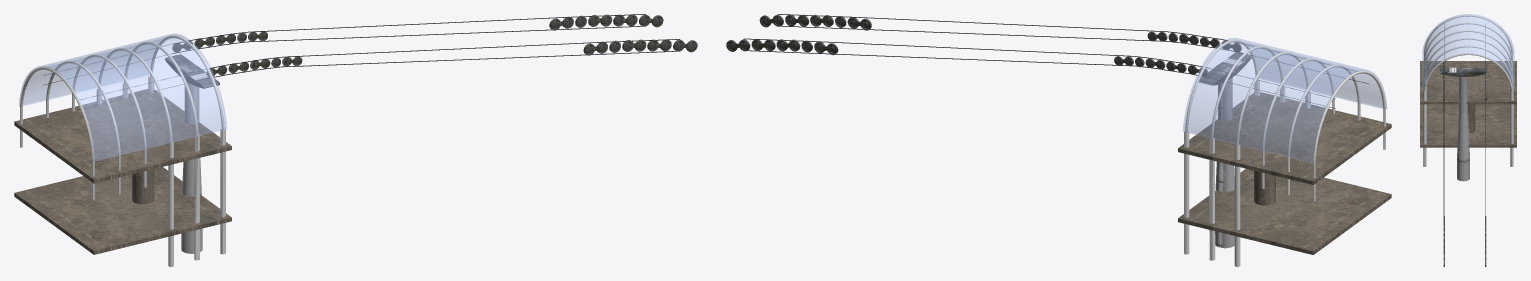
Rendered from trilho.glb.
3 renders of one model, left to right at view 1: azimuth 30°, elevation 25°; view 2: azimuth 150°, elevation 25°; view 3: azimuth 270°, elevation 25°, orthographic. The views are drawn at different scales.
Parts seen in each view (by area): view 1: Cylinder.021, Plane.072, Plane.019, Cylinder.023, Circle.002, Circle.010, Circle.004, Vert.004, Vert.009, Cylinder.026, Cylinder.024, Cylinder.025 (+1 smaller); view 2: Cylinder.021, Plane.072, Plane.019, Cylinder.023, Circle.002, Circle.004, Circle.010, Vert.009, Vert.004, Cylinder.026, Cylinder.025, Cylinder.024 (+1 smaller); view 3: Cylinder.021, Plane.019, Plane.072, Cylinder.023, Circle.002, Cylinder.024, Vert.004, Cylinder.027, Vert.009, Circle.004, Circle.010.
Boxes of the visible parts, x1,y1,x2,y2 form: Cylinder.021: (19, 34, 226, 161); Plane.072: (14, 89, 231, 183); Plane.019: (14, 167, 231, 254); Cylinder.023: (20, 35, 224, 200); Circle.002: (165, 54, 219, 253); Circle.010: (206, 39, 697, 77); Circle.004: (172, 14, 663, 52); Vert.004: (77, 39, 679, 110); Vert.009: (43, 14, 645, 85); Cylinder.026: (96, 89, 173, 266); Cylinder.024: (148, 76, 225, 254); Cylinder.025: (122, 83, 199, 260); Cylinder.021: (1183, 38, 1386, 162); Plane.072: (1178, 92, 1391, 184); Plane.019: (1178, 168, 1391, 254); Cylinder.023: (1185, 39, 1385, 201); Circle.002: (1199, 52, 1251, 248); Circle.004: (726, 39, 1208, 76); Circle.010: (759, 14, 1241, 52); Vert.009: (744, 38, 1335, 108); Vert.004: (777, 14, 1369, 84); Cylinder.026: (1234, 92, 1310, 266); Cylinder.025: (1209, 86, 1285, 260); Cylinder.024: (1184, 80, 1259, 254); Cylinder.021: (1422, 14, 1514, 90); Plane.019: (1420, 104, 1516, 147); Plane.072: (1420, 61, 1516, 104); Cylinder.023: (1424, 15, 1512, 91); Circle.002: (1440, 67, 1487, 181); Cylinder.024: (1423, 91, 1513, 166); Vert.004: (1443, 24, 1444, 253); Cylinder.027: (1468, 104, 1475, 133); Vert.009: (1485, 24, 1485, 253); Circle.004: (1485, 62, 1486, 266); Circle.010: (1443, 62, 1444, 266).
Size of the model in its own units: 343 by 109 by 76.07.
Materials: 4 (2 with a texture image).
